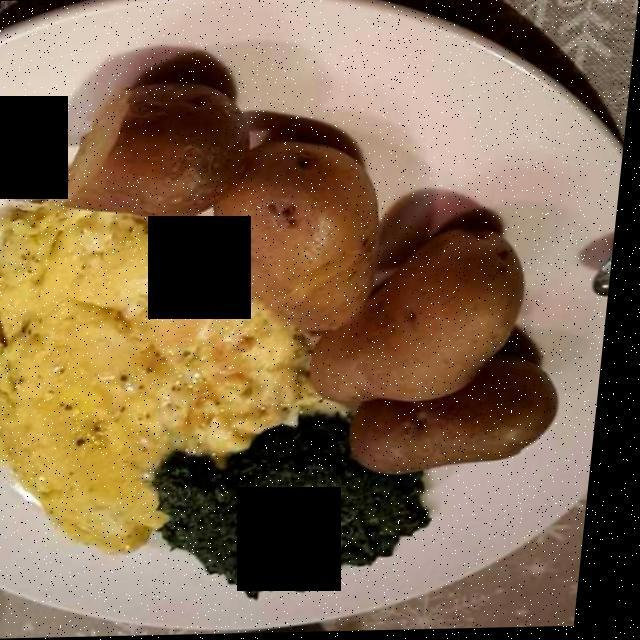broccoli: (171, 417, 439, 589)
eggs: (0, 198, 528, 552)
potatoes: (63, 43, 570, 471)
